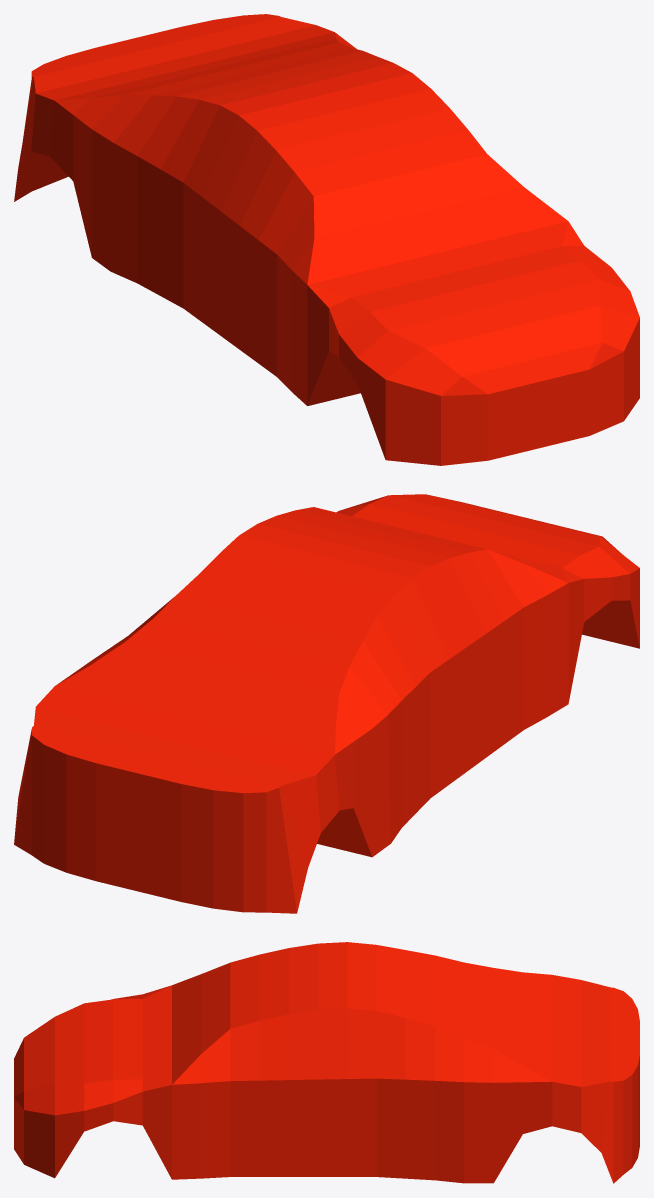
File: CARv2.glb
3 views of the same model, one above another, from view 1: azimuth 30°, elevation 25°; view 2: azimuth 150°, elevation 25°; view 3: azimuth 270°, elevation 25° (orthographic). The views are drawn at different scales.
Visible parts, largest first — view 1: Cube; view 2: Cube; view 3: Cube.
Boxes of the visible parts, x1,y1,x2,y2 form: Cube: (14, 14, 639, 465); Cube: (14, 494, 639, 913); Cube: (14, 942, 639, 1183).
Size of the model in its own units: 6.47 by 4.22 by 15.47.
